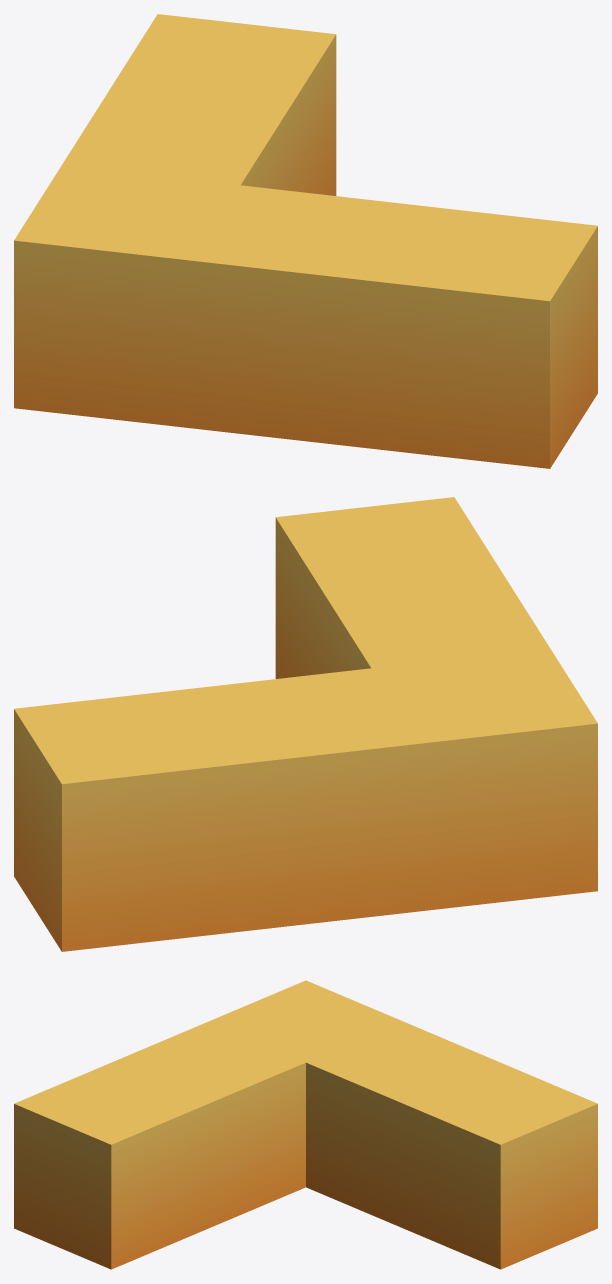
The model's file is kenney-conveyor-arrow-basic.glb.
3 views of the same model, one above another, from view 1: azimuth 30°, elevation 25°; view 2: azimuth 150°, elevation 25°; view 3: azimuth 270°, elevation 25° (orthographic). The views are drawn at different scales.
Visible parts, largest first — view 1: arrow-basic; view 2: arrow-basic; view 3: arrow-basic.
Boxes of the visible parts, box(x1,y1,x2,y2) form: arrow-basic: box(14, 14, 597, 468); arrow-basic: box(14, 497, 597, 951); arrow-basic: box(14, 980, 597, 1269).
Size of the model in its own units: 0.5657 by 0.2 by 0.8485.
1 material, 1 textured.
